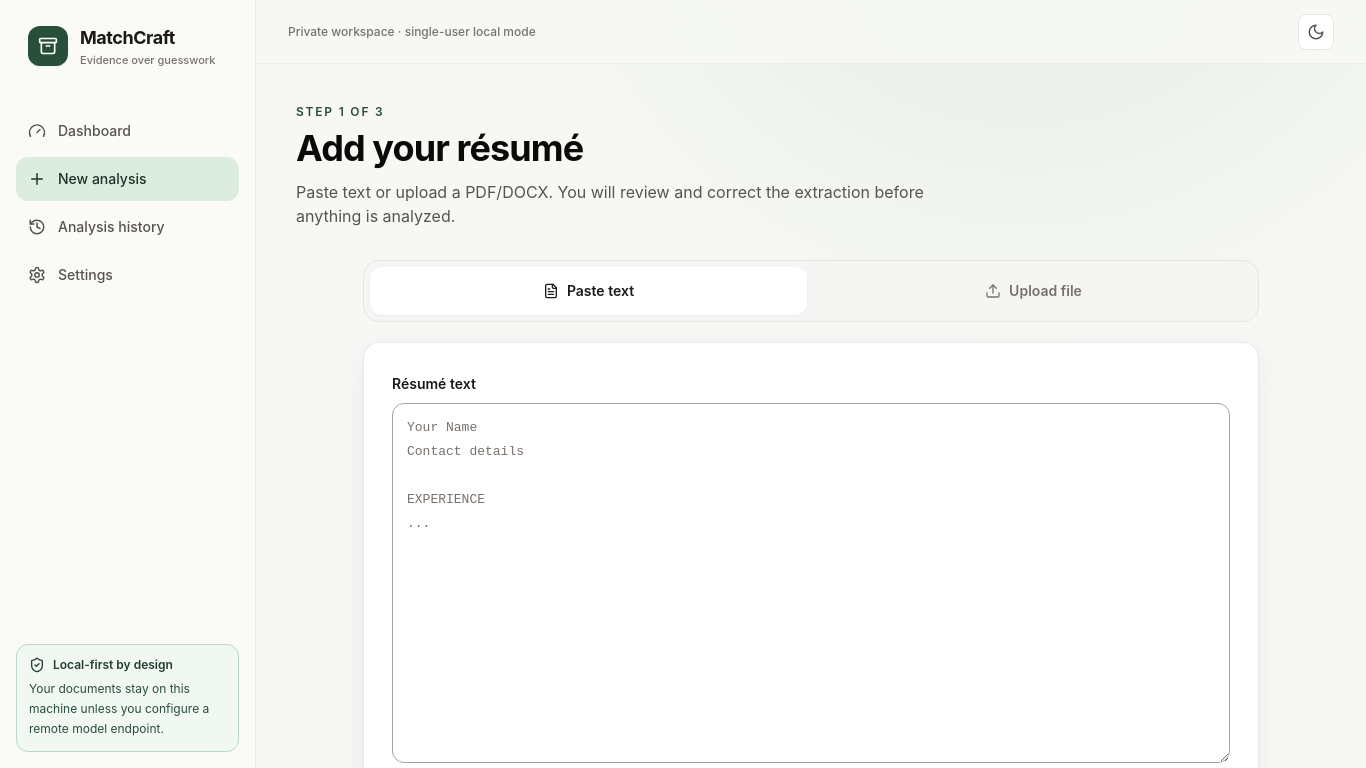
Test case: new analysis › shows API errors instead of losing the form
Type "Jordan Rivera experience building reliable Python services and testing data systems." into the text box labelled "Résumé text".
click(811, 583); type("Jordan Rivera experience building reliable Python services and testing data systems.")  # box [392,403,1230,763]
(page scrolled)
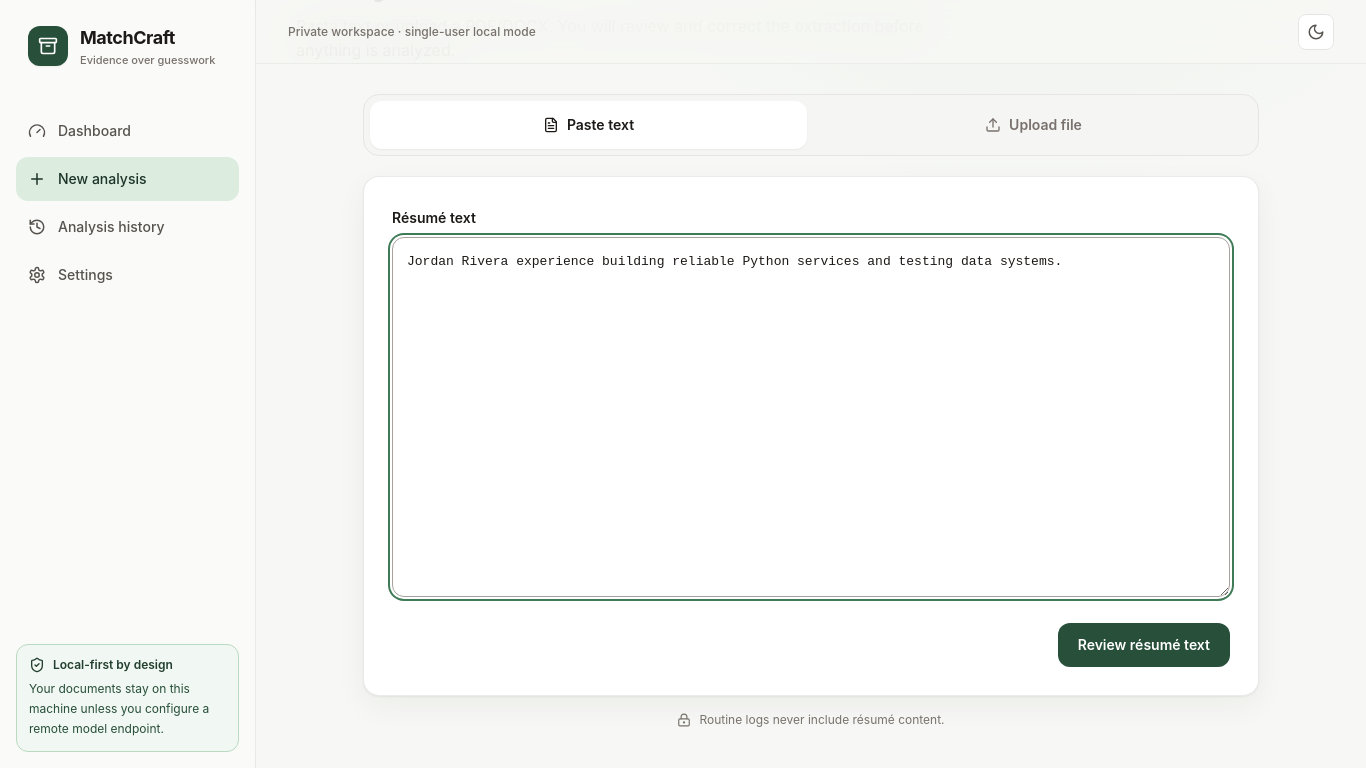
Click the button "Review résumé text".
click(1144, 645)  # box [1058,623,1230,667]
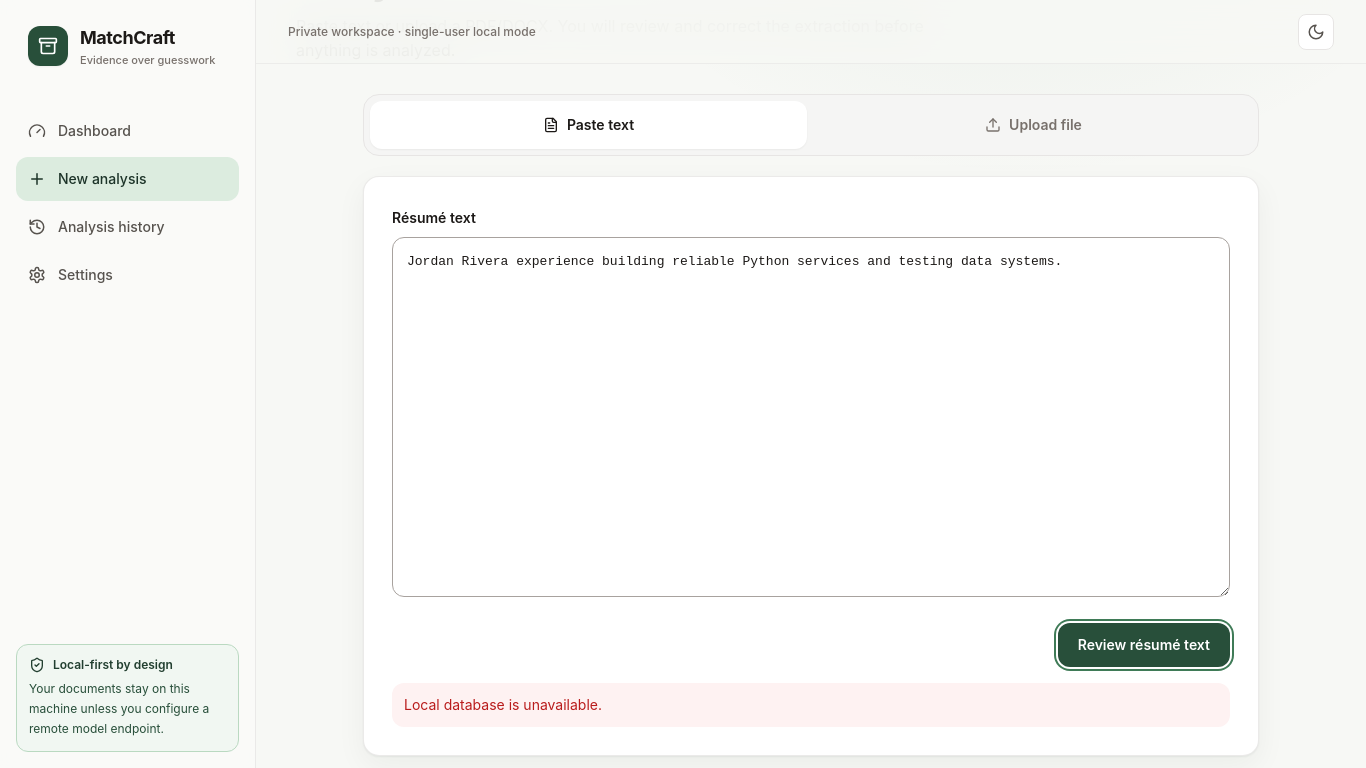
Expected: the message reads "Local database is unavailable.", [404,696,602,713]
